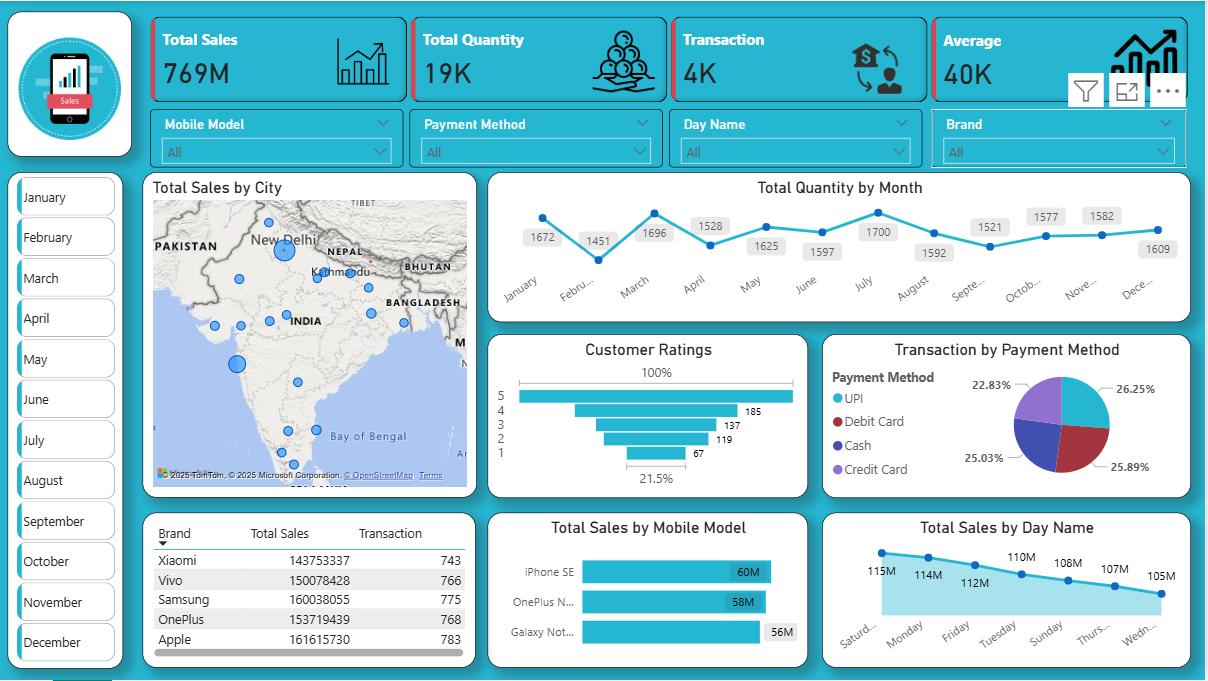

This screenshot's page, from the dashboard's own definition file:
{"tool":"powerbi","page":{"name":"Page 1","canvas":[1280,720],"ordinal":0},"visuals":[{"type":"shape","box":[11.1,181.3,122.5,526.5],"z":0},{"type":"shape","box":[11.1,11.1,132,165.4],"z":1000},{"type":"image","box":[17.5,22.3,119.3,143.2],"z":2000},{"type":"advancedSlicerVisual","fields":{"Values":["Sales_Data.Date.Variation.Date Hierarchy.Month"]},"box":[15.9,181.3,114.5,524.9],"z":3000},{"type":"cardVisual","fields":{"Data":["Sales_Data.Total Sales","Sales_Data.Total Quantity","Sales_Data.Transaction","Sales_Data.Average"]},"box":[157.5,11.1,1111.8,101.8],"z":4000},{"type":"map","fields":{"Category":["Sales_Data.City"],"Size":["Sales_Data.Total Sales"]},"box":[154.3,181.3,354.7,345.2],"z":5000},{"type":"lineChart","fields":{"Category":["Sales_Data.Date.Variation.Date Hierarchy.Month","Sales_Data.Date.Variation.Date Hierarchy.Day"],"Y":["Sales_Data.Total Quantity"]},"box":[520.1,181.3,746,159.1],"z":6000},{"type":"clusteredBarChart","fields":{"Category":["Sales_Data.Mobile Model"],"Y":["Sales_Data.Total Sales"]},"box":[519.7,542.4,340.2,164.4],"z":7000},{"type":"pieChart","fields":{"Category":["Sales_Data.Payment Method"],"Y":["Sales_Data.Transaction"]},"box":[875,353.4,391.2,173.9],"z":8000},{"type":"funnel","title":"Customer Ratings","fields":{"Category":["Sales_Data.Customer Ratings"],"Y":["CountNonNull(Sales_Data.Customer Ratings)"]},"box":[520.1,353.1,340.4,173.4],"z":9000},{"type":"areaChart","fields":{"Y":["Sales_Data.Total Sales"],"Category":["Sales_Data.Day Name"]},"box":[875,542.4,391.2,164.4],"z":10000},{"type":"tableEx","fields":{"Values":["Sales_Data.Brand","Sales_Data.Total Sales","Sales_Data.Transaction"]},"box":[155,542.4,353.4,164.4],"z":11000},{"type":"slicer","fields":{"Values":["Sales_Data.Mobile Model"]},"box":[162.2,114.5,268.8,62],"z":12000},{"type":"slicer","fields":{"Values":["Sales_Data.Payment Method"]},"box":[437.4,114.5,268.8,62],"z":13000},{"type":"slicer","fields":{"Values":["Sales_Data.Day Name"]},"box":[712.6,114.5,268.8,62],"z":14000},{"type":"slicer","fields":{"Values":["Sales_Data.Brand"]},"box":[991,114.5,270.4,62],"z":15000}]}

Visuals, with their boxes in screenshot pixels (x1, y1, x2, y2), scaled from the page's 1280x720 canvas onto the 1208x681 screenshot:
shape: 10/171/126/669
shape: 10/10/135/167
image: 17/21/129/157
advancedSlicerVisual - Sales_Data.Date.Variation.Date Hierarchy.Month: 15/171/123/668
cardVisual - Sales_Data.Total Sales x Sales_Data.Total Quantity: 149/10/1198/107
map - Sales_Data.City x Sales_Data.Total Sales: 146/171/480/498
lineChart - Sales_Data.Date.Variation.Date Hierarchy.Month x Sales_Data.Date.Variation.Date Hierarchy.Day: 491/171/1195/322
clusteredBarChart - Sales_Data.Mobile Model x Sales_Data.Total Sales: 490/513/812/669
pieChart - Sales_Data.Payment Method x Sales_Data.Transaction: 826/334/1195/499
"Customer Ratings" funnel: 491/334/812/498
areaChart - Sales_Data.Total Sales x Sales_Data.Day Name: 826/513/1195/669
tableEx - Sales_Data.Brand x Sales_Data.Total Sales: 146/513/480/669
slicer - Sales_Data.Mobile Model: 153/108/407/167
slicer - Sales_Data.Payment Method: 413/108/666/167
slicer - Sales_Data.Day Name: 673/108/926/167
slicer - Sales_Data.Brand: 935/108/1190/167
